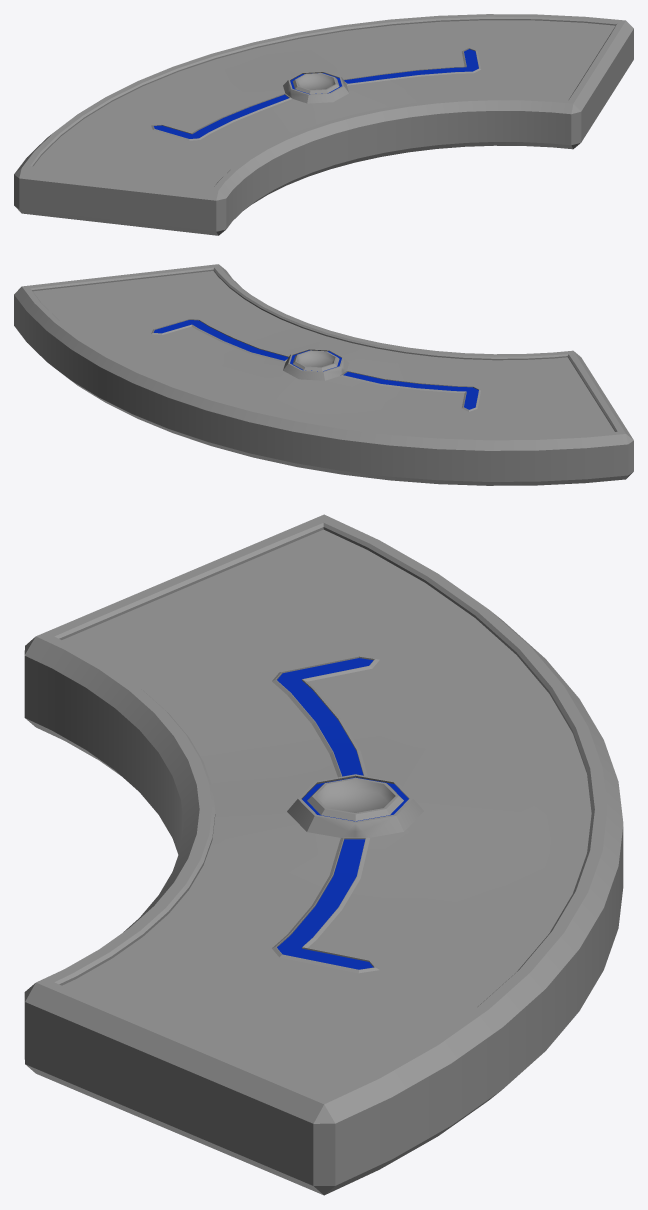
File: Prototype_ForgeTable_Table.FBX
3 views of the same model, one above another, from view 1: azimuth 30°, elevation 25°; view 2: azimuth 150°, elevation 25°; view 3: azimuth 270°, elevation 25° (orthographic). The views are drawn at different scales.
Visible parts, largest first — view 1: TableBase; view 2: TableBase; view 3: TableBase.
Part boxes in pixels (x1,y1,x2,y2): TableBase: (14, 14, 633, 235); TableBase: (14, 264, 633, 485); TableBase: (24, 514, 623, 1195).
Bounding box in the file's own units: 574 × 62.65 × 242.
